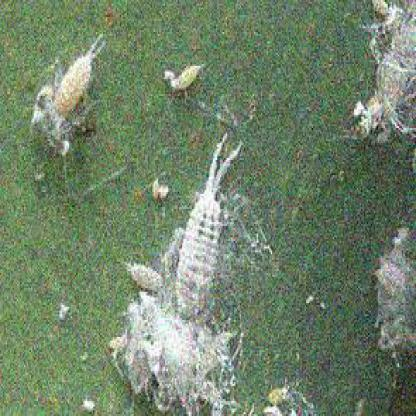mealy bug: (175, 138, 242, 326), (53, 47, 100, 113)
